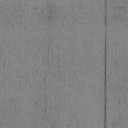surface scratch: (104, 32, 107, 128), (104, 15, 107, 30), (104, 0, 107, 10)
